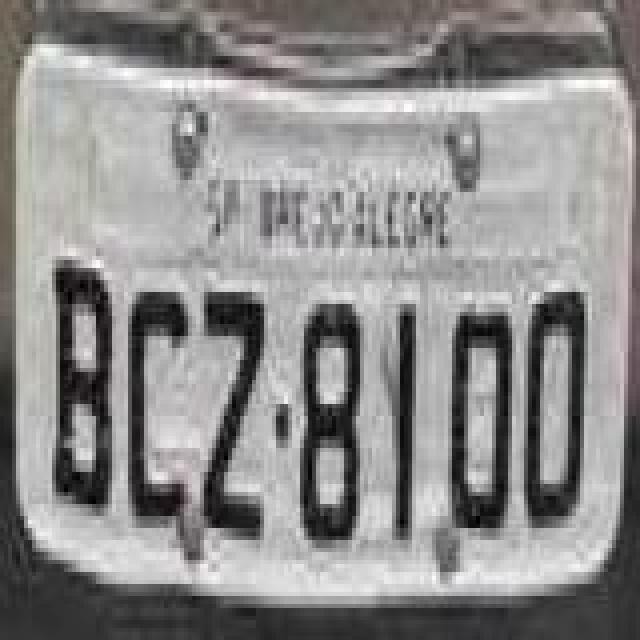1: (394, 296, 422, 552)
8: (298, 296, 366, 552)
B: (50, 250, 118, 518)
C: (126, 284, 194, 532)
O: (522, 280, 590, 536), (446, 308, 514, 540)
Z: (198, 282, 266, 550)
